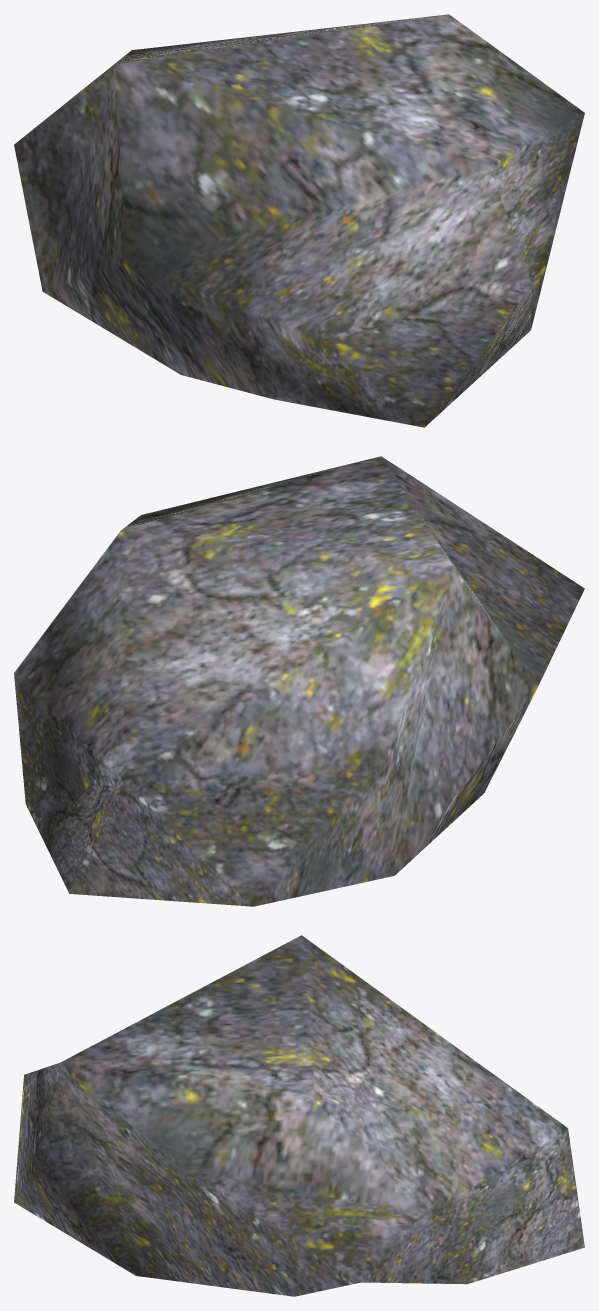
Rendered from rock_weatheredmossy_medium_a1_l1.fbx.
The picture shows the model from 3 angles, top to bottom: view 1: azimuth 30°, elevation 25°; view 2: azimuth 150°, elevation 25°; view 3: azimuth 270°, elevation 25°; orthographic projection. The views are drawn at different scales.
Visible parts, largest first — view 1: mesh_node; view 2: mesh_node; view 3: mesh_node.
Boxes of the visible parts, bbox=[...] form: mesh_node: bbox=[14, 14, 584, 427]; mesh_node: bbox=[14, 456, 584, 906]; mesh_node: bbox=[14, 935, 584, 1296].
Bounding box in the file's own units: 0.2855 × 0.1733 × 0.397.
1 material, 1 textured.
